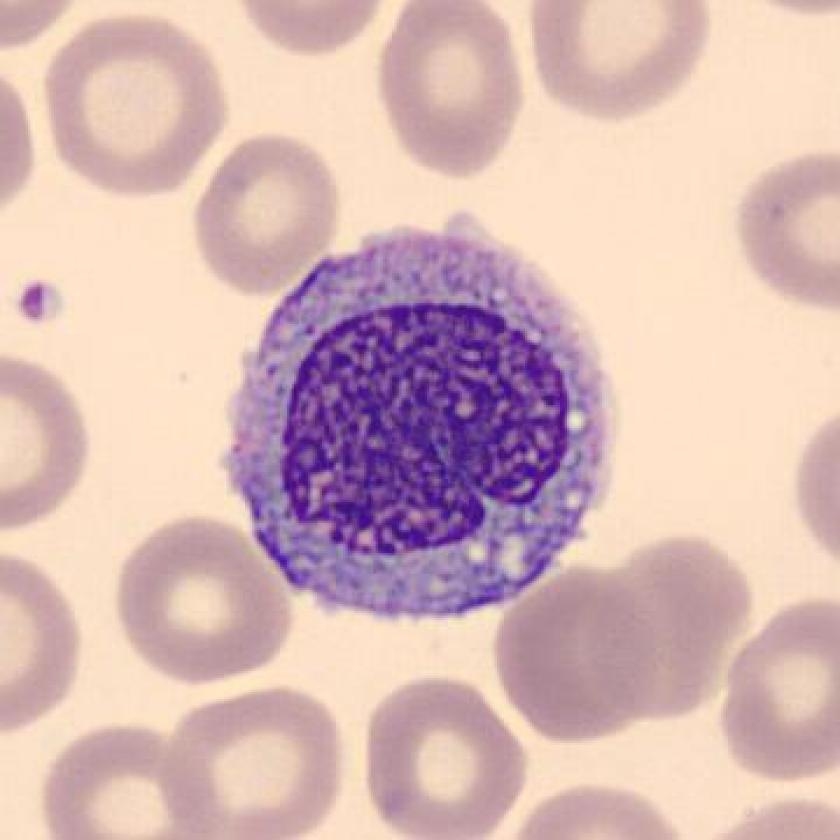monocyte: (214, 202, 641, 640)
